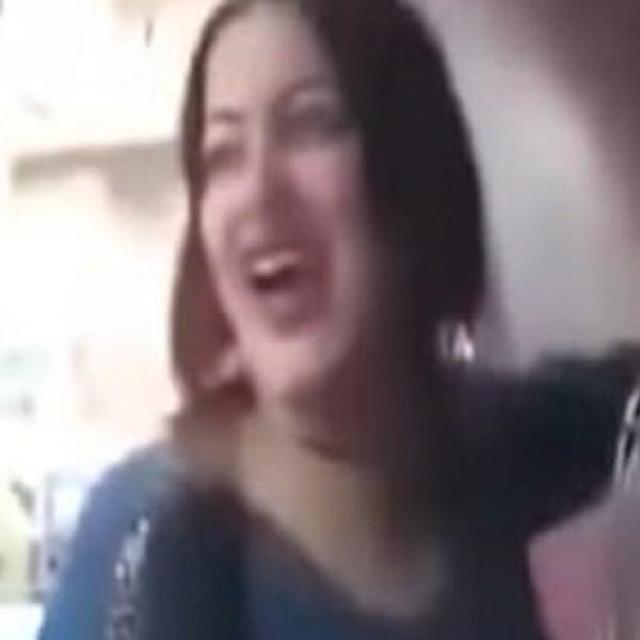human: (139, 1, 611, 640)
